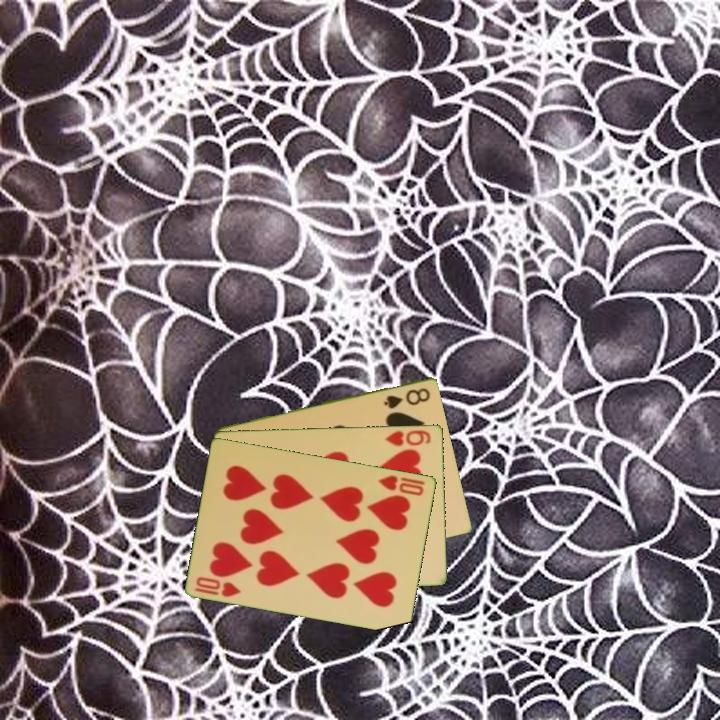10h: (375, 471, 428, 499), (192, 573, 244, 600)
6h: (382, 426, 434, 448)
8s: (381, 384, 433, 411)
